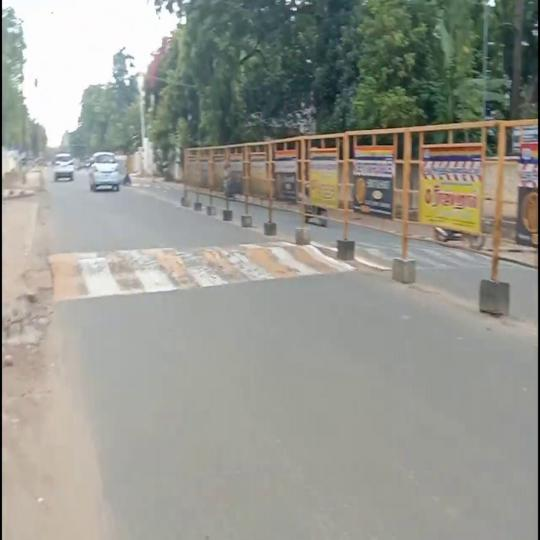Speed Bump: (51, 240, 295, 300), (416, 243, 485, 275), (358, 240, 393, 266), (296, 241, 324, 267)
